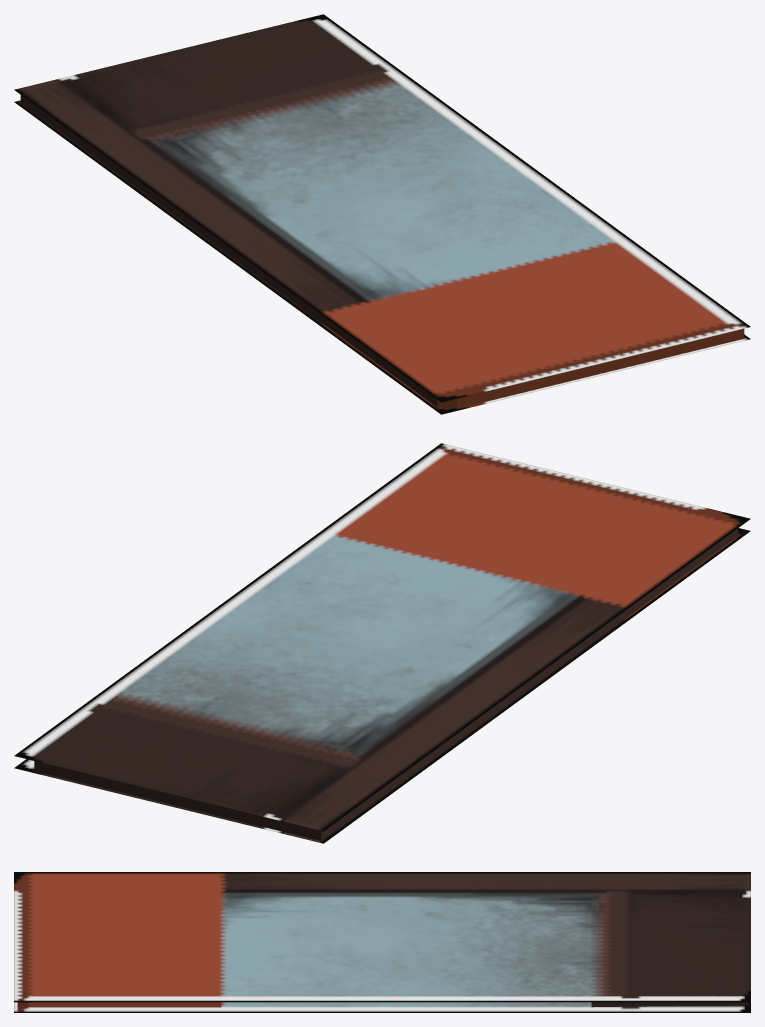
The model's file is pz_native_location_restaurant_seahorse_01_16_frame.obj.
3 views of the same model, one above another, from view 1: azimuth 30°, elevation 25°; view 2: azimuth 150°, elevation 25°; view 3: azimuth 270°, elevation 25° (orthographic). The views are drawn at different scales.
Parts seen in each view (by area): view 1: pz_native_location_restaurant_seahorse_01_16_frame; view 2: pz_native_location_restaurant_seahorse_01_16_frame; view 3: pz_native_location_restaurant_seahorse_01_16_frame.
Part boxes in pixels (x1,y1,x2,y2): pz_native_location_restaurant_seahorse_01_16_frame: [14, 14, 750, 414]; pz_native_location_restaurant_seahorse_01_16_frame: [14, 443, 750, 843]; pz_native_location_restaurant_seahorse_01_16_frame: [14, 872, 750, 1012].
Size of the model in its own units: 1.06 by 0.04 by 2.54.
Materials: 1 (1 with a texture image).
